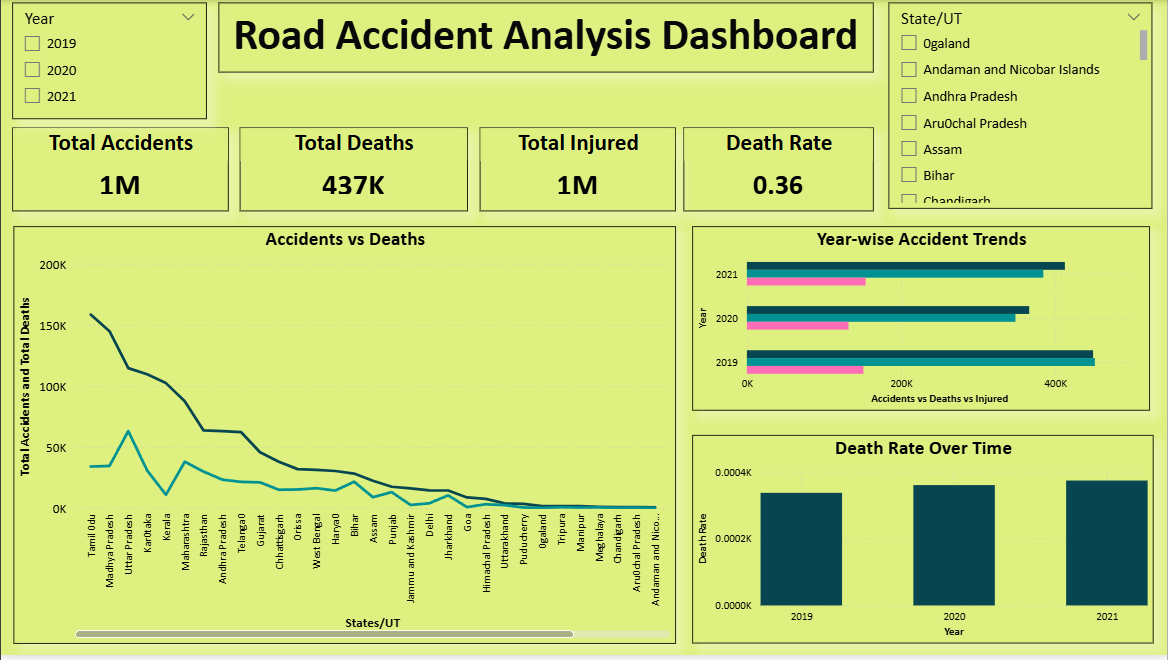

Layout of this report page (visuals, bound fields, positions):
{"tool":"powerbi","page":{"name":"Overview","canvas":[1280,720],"ordinal":0},"visuals":[{"type":"slicer","fields":{"Values":["Cleaned_Road_Accident_Data.State/UT"]},"box":[974,2.5,289.8,226.4],"z":0},{"type":"cardVisual","title":"Total Accidents","fields":{"Data":["Sum(Cleaned_Road_Accident_Data.Total Accidents)"]},"box":[12.4,140.6,237.6,92.1],"z":1000},{"type":"cardVisual","title":"Total Deaths","fields":{"Data":["Sum(Cleaned_Road_Accident_Data.Total Deaths)"]},"box":[262.5,140.6,250,92.1],"z":2000},{"type":"cardVisual","title":"Total Injured","fields":{"Data":["Sum(Cleaned_Road_Accident_Data.ToTal Injured)"]},"box":[525,140.6,215.2,92.1],"z":3000},{"type":"cardVisual","title":"Death Rate","fields":{"Data":["Cleaned_Road_Accident_Data.Death Rate"]},"box":[749.2,140,208.6,91.9],"z":4000},{"type":"clusteredBarChart","title":"Year-wise Accident Trends","fields":{"Category":["Cleaned_Road_Accident_Data.Year"],"Y":["Sum(Cleaned_Road_Accident_Data.Total Accidents)","Sum(Cleaned_Road_Accident_Data.ToTal Injured)","Sum(Cleaned_Road_Accident_Data.Total Deaths)"]},"box":[758.8,248.8,502.6,202.8],"z":5000},{"type":"slicer","fields":{"Values":["Cleaned_Road_Accident_Data.Year"]},"box":[12.4,2.5,214,128.1],"z":6000},{"type":"lineChart","title":"Accidents vs Deaths","fields":{"Category":["Cleaned_Road_Accident_Data.State/UT"],"Y":["Sum(Cleaned_Road_Accident_Data.Total Accidents)","Sum(Cleaned_Road_Accident_Data.Total Deaths)"]},"box":[13.7,248.4,727.3,458.3],"z":7000},{"type":"clusteredColumnChart","title":"Death Rate Over Time","fields":{"Category":["Cleaned_Road_Accident_Data.Year"],"Y":["Cleaned_Road_Accident_Data.Death Rate"]},"box":[758.8,477.7,506.3,228.9],"z":8000},{"type":"textbox","box":[238.8,2.7,719,76.8],"z":9000}]}

Visuals, with their boxes in screenshot pixels (x1, y1, x2, y2), scaled from the page's 1280x720 canvas onto the 1168x660 screenshot:
slicer - Cleaned_Road_Accident_Data.State/UT: <bbox>889, 2, 1153, 210</bbox>
"Total Accidents" cardVisual: <bbox>11, 129, 228, 213</bbox>
"Total Deaths" cardVisual: <bbox>240, 129, 468, 213</bbox>
"Total Injured" cardVisual: <bbox>479, 129, 675, 213</bbox>
"Death Rate" cardVisual: <bbox>684, 128, 874, 213</bbox>
"Year-wise Accident Trends" clusteredBarChart: <bbox>692, 228, 1151, 414</bbox>
slicer - Cleaned_Road_Accident_Data.Year: <bbox>11, 2, 207, 120</bbox>
"Accidents vs Deaths" lineChart: <bbox>13, 228, 676, 648</bbox>
"Death Rate Over Time" clusteredColumnChart: <bbox>692, 438, 1154, 648</bbox>
textbox: <bbox>218, 2, 874, 73</bbox>
